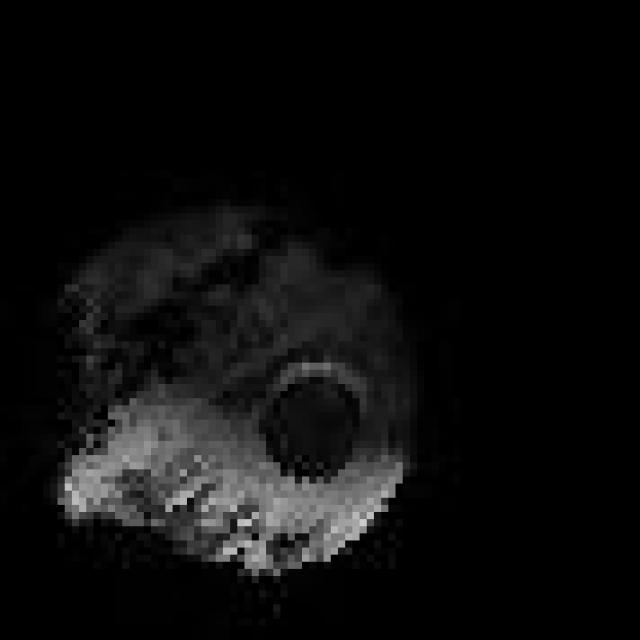Death Star: (36, 185, 431, 583)
